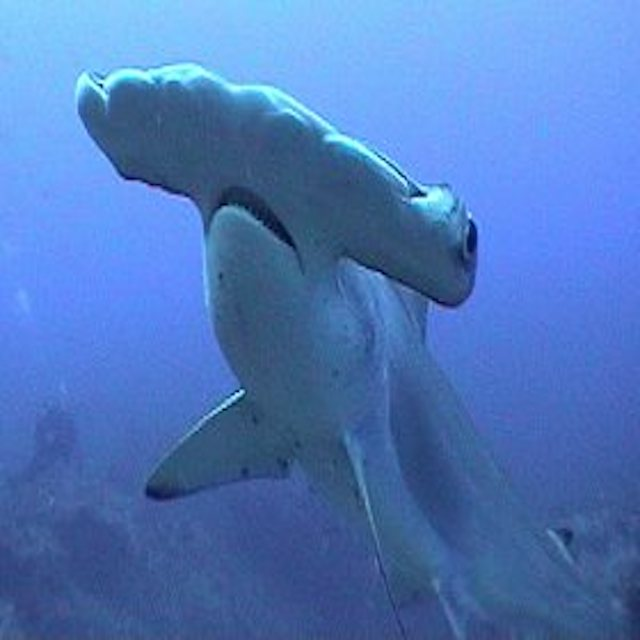hammerhead: (45, 47, 524, 364)
